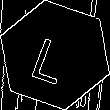L_N: (31, 26, 79, 84)
